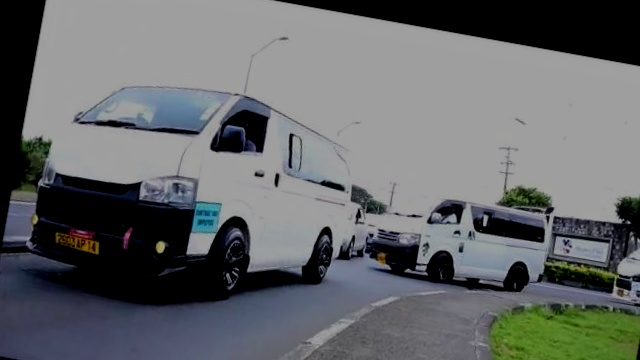van: (23, 63, 370, 326), (363, 180, 555, 301)
